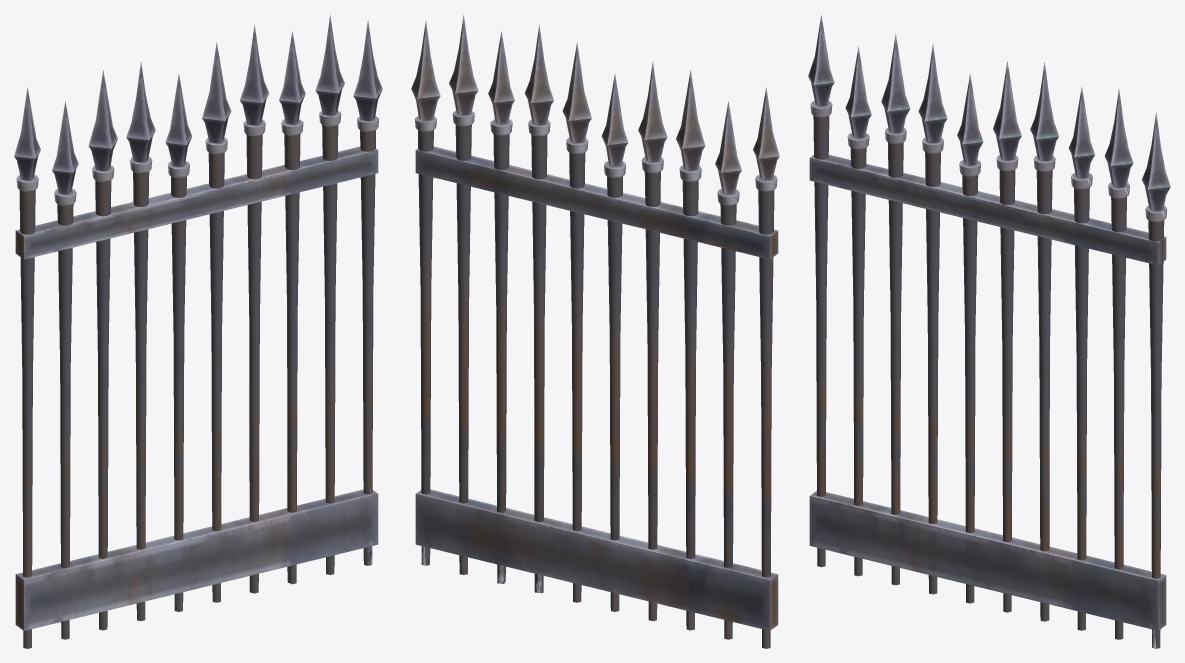
Rendered from Prop_MetalFence_Simple.gltf.
The picture shows the model from 3 angles, left to right: view 1: azimuth 30°, elevation 25°; view 2: azimuth 150°, elevation 25°; view 3: azimuth 330°, elevation 25°; orthographic projection.
Visible parts, largest first — view 1: Prop_MetalFence_Simple; view 2: Prop_MetalFence_Simple; view 3: Prop_MetalFence_Simple.
Boxes of the visible parts, x1=… form: Prop_MetalFence_Simple: x1=14, y1=14, x2=382, y2=648; Prop_MetalFence_Simple: x1=411, y1=14, x2=779, y2=648; Prop_MetalFence_Simple: x1=808, y1=15, x2=1170, y2=648.
Bounding box in the file's own units: 1.95 × 2.87 × 0.1562.
1 material, 1 textured.
